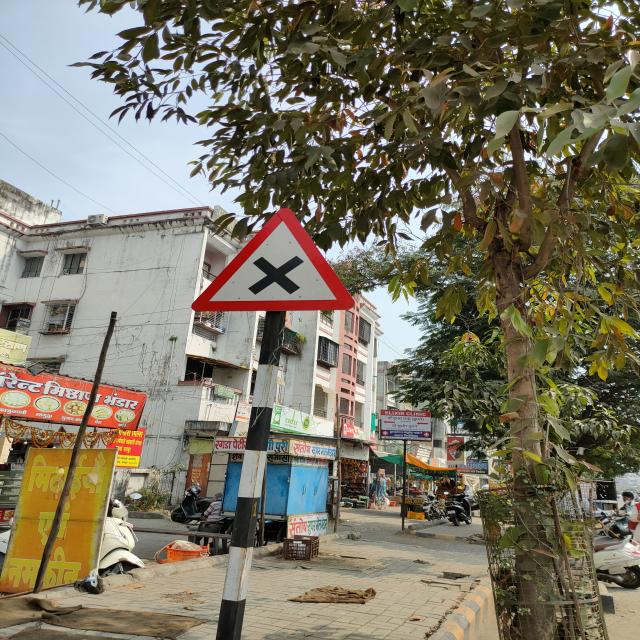CROSS_ROAD: (186, 204, 368, 314)
